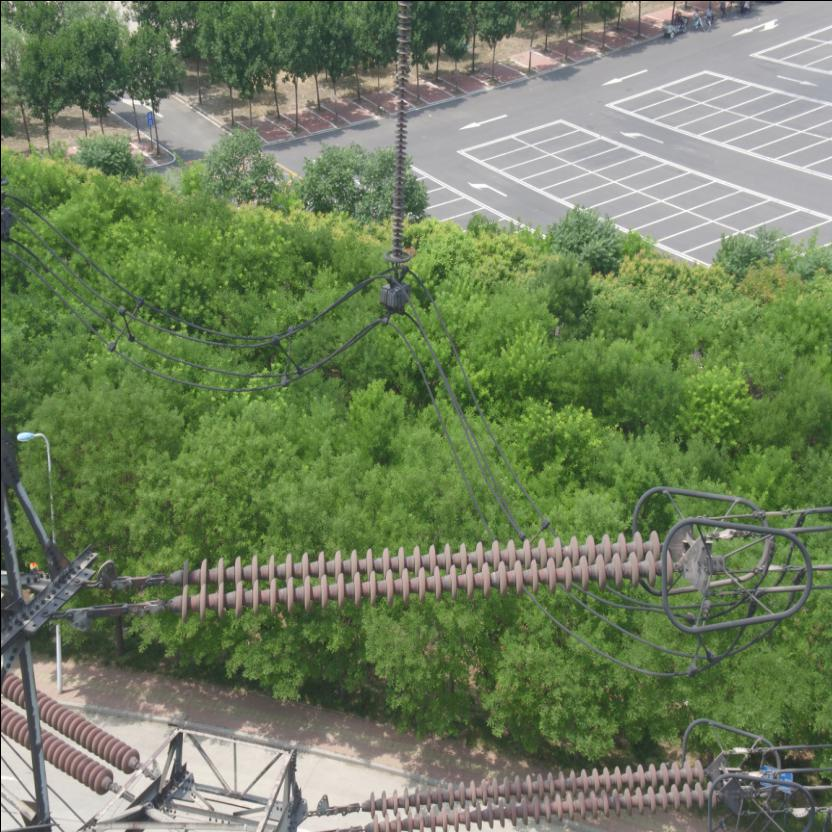insulator: (110, 517, 695, 625), (328, 755, 734, 831), (0, 664, 148, 798)
